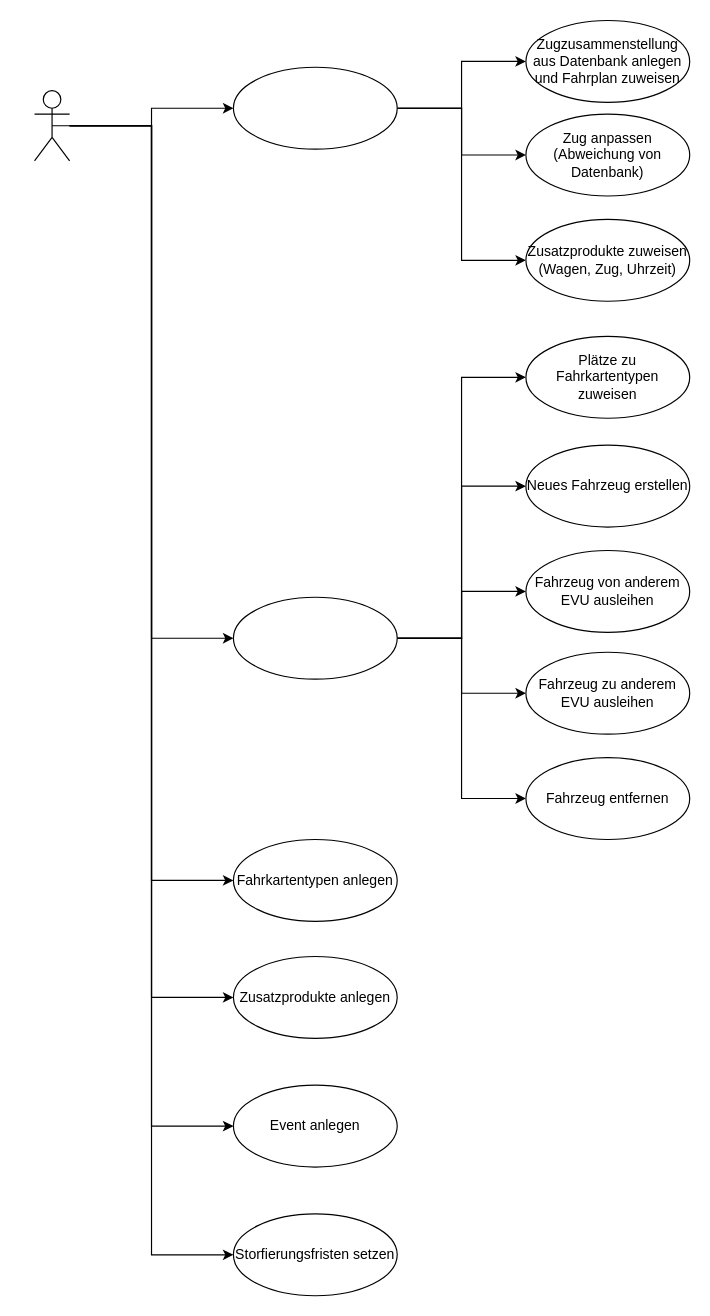
Image size: 710x1316. Some labels were removed from this diagram. Each missing label, with the centre of its shape:
Fahplan und Zug anlegen: point 314,107
Fahrzeugpool pflegen: point 314,637
Zugplaner: point 51,125
